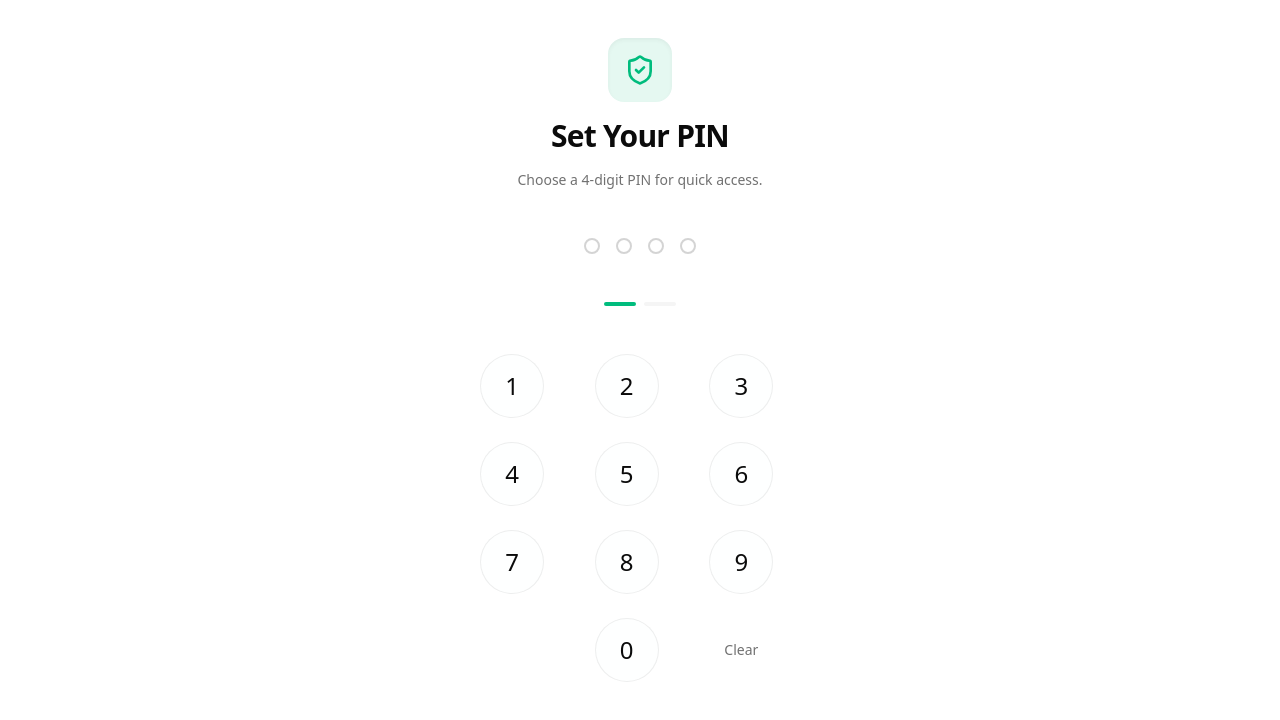
PinSetupScreen › allows entering a 4-digit PIN and proceeds to confirm step
The width and height of the screenshot is (1280, 720).
Note: Click 1, 2, 3, 4
Click the button "1": [512, 386] box [480,354,544,418]
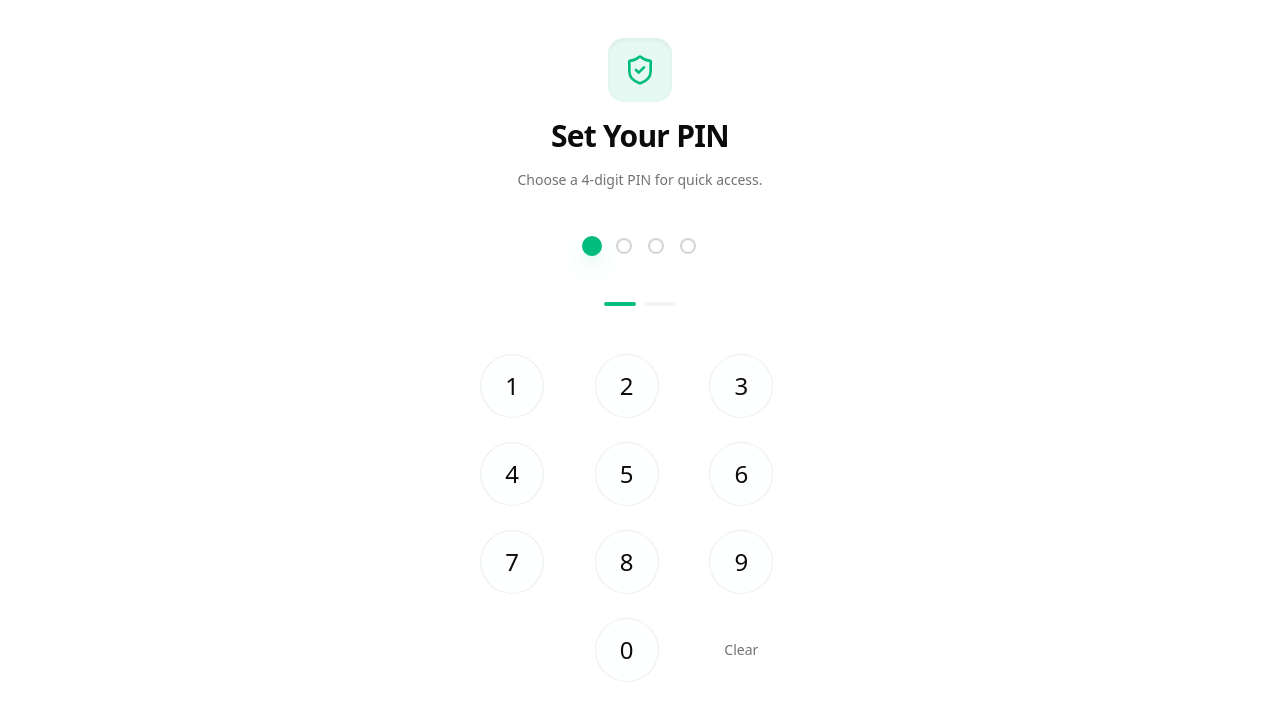
Click the button "2": [627, 386] box [595,354,659,418]
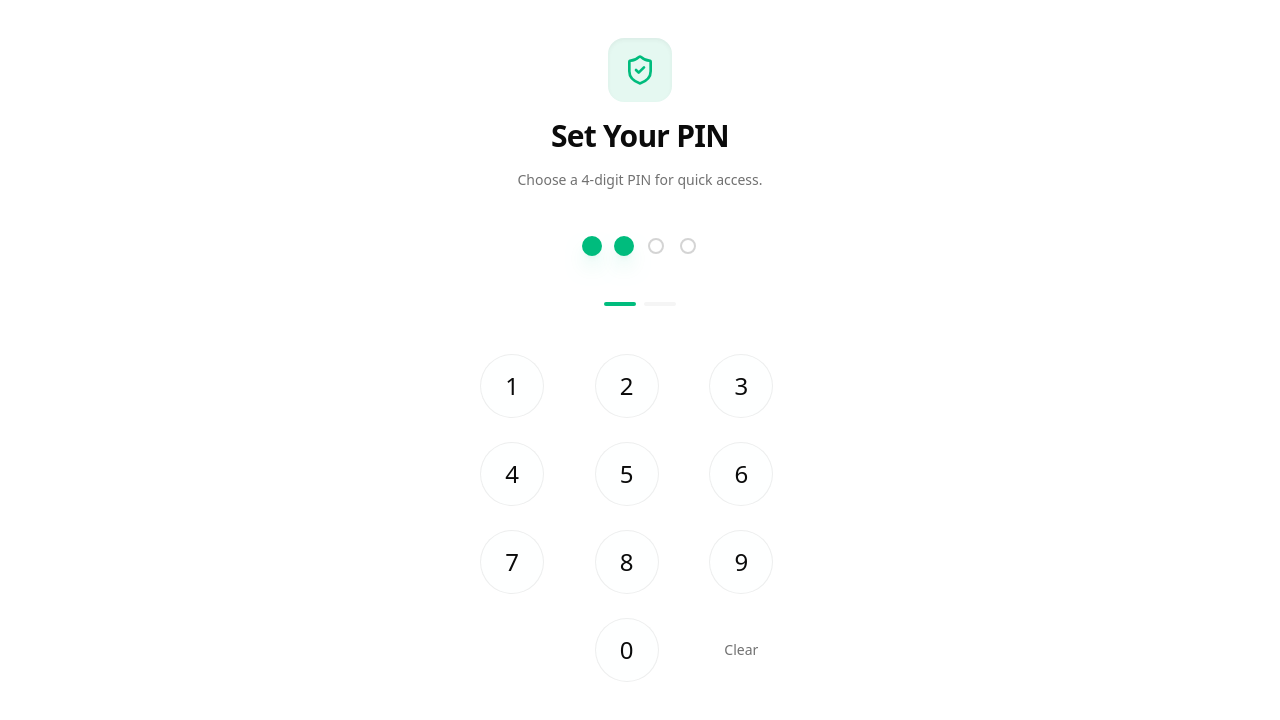
Click the button "3": [741, 386] box [709,354,773,418]
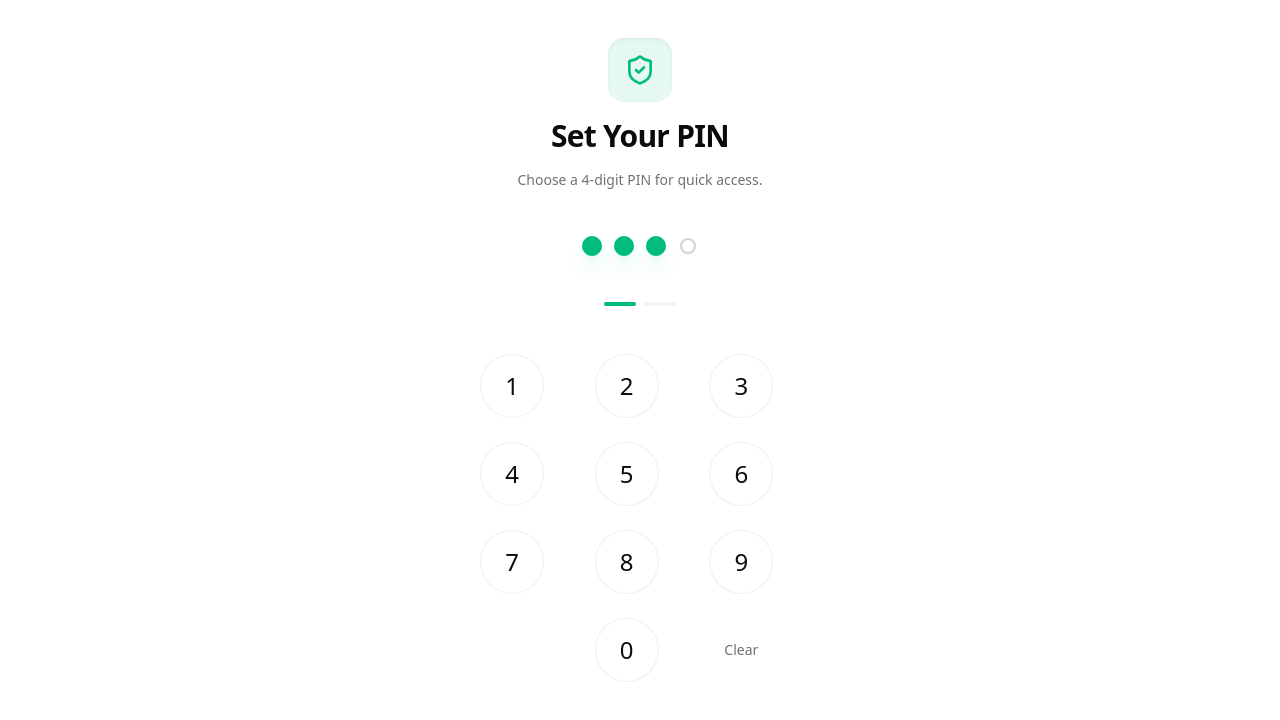
Click the button "4": [512, 474] box [480,442,544,506]
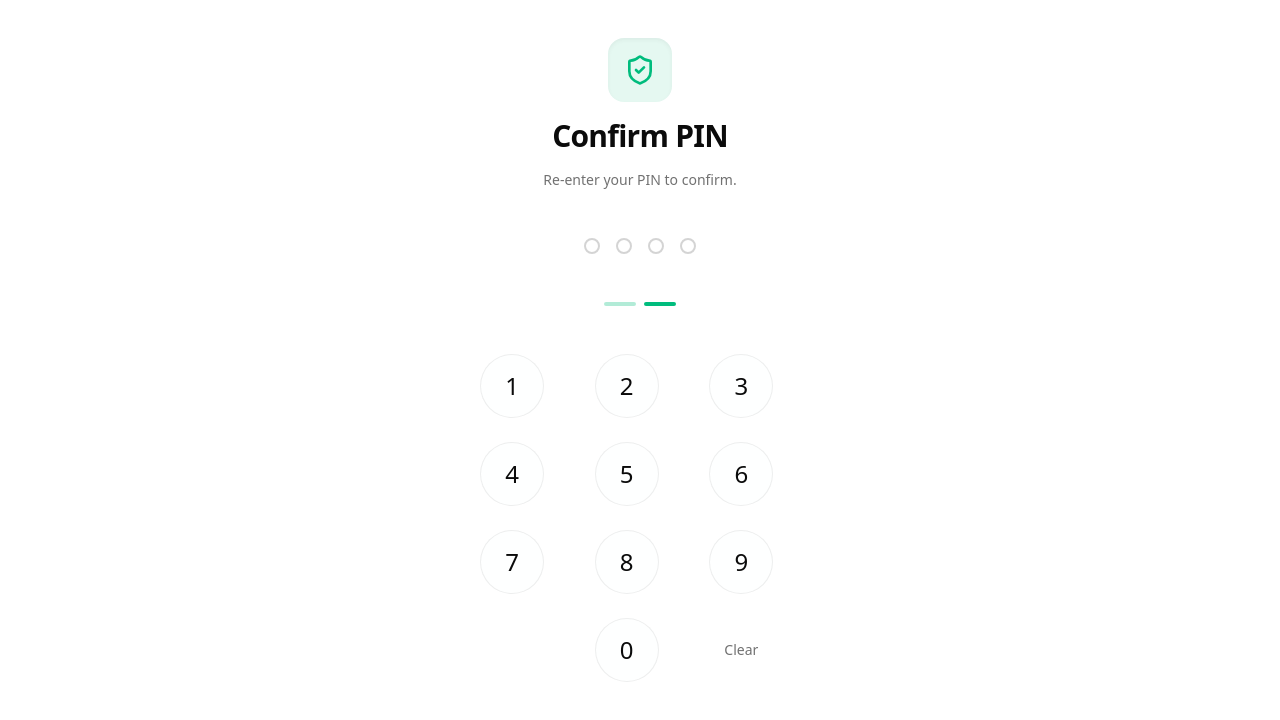
Now the heading "Confirm PIN" is shown, box [552,118,728,154]
Now the text "Re-enter your PIN to confirm." is shown, box [543,170,737,190]
